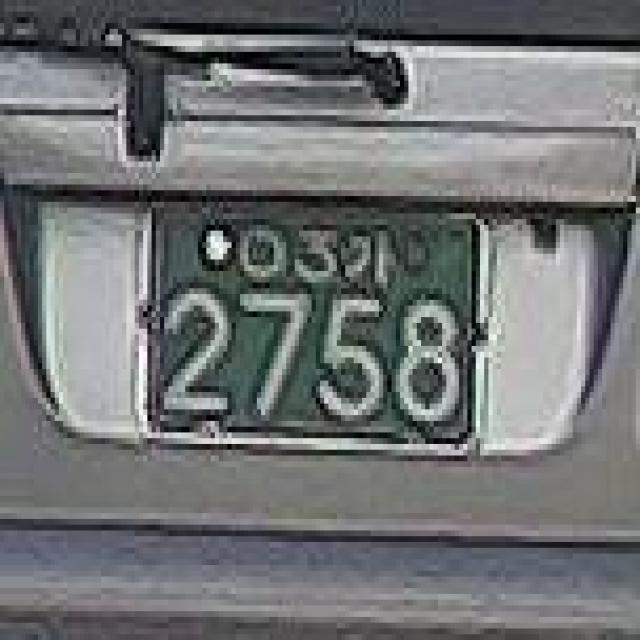illegal_plate: (132, 179, 500, 482)
